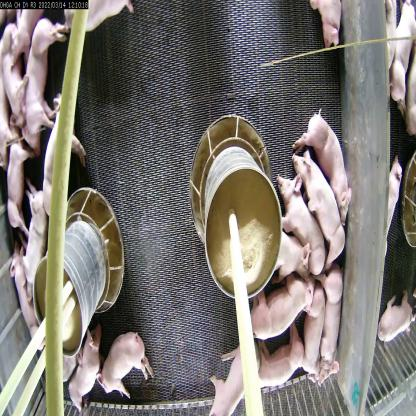Pig: (288, 142, 346, 263), (300, 98, 350, 235), (32, 94, 83, 218), (272, 169, 326, 277), (17, 18, 63, 142), (94, 332, 154, 398), (58, 328, 103, 415), (249, 280, 307, 344), (210, 337, 257, 415), (318, 258, 347, 384), (17, 184, 51, 288), (8, 248, 40, 352), (2, 19, 32, 124), (253, 336, 313, 386), (298, 283, 328, 382), (0, 138, 28, 238), (268, 226, 312, 285), (307, 0, 346, 60)
